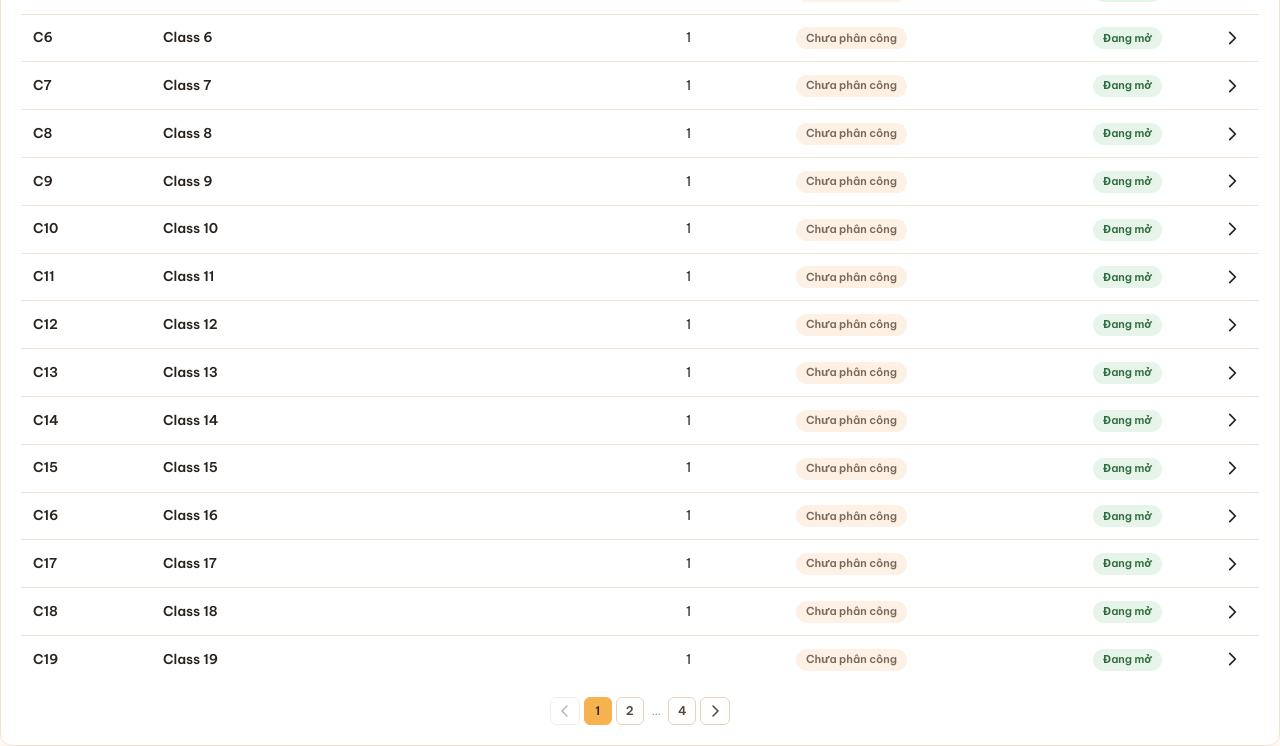
Test: classes pagination › shows five rows on the last page and returns to the first page on search
(page scrolled)
Click the button named "Trang 4" at (682, 711), box top-left (668, 697), bottom-right (696, 725)
(page scrolled)
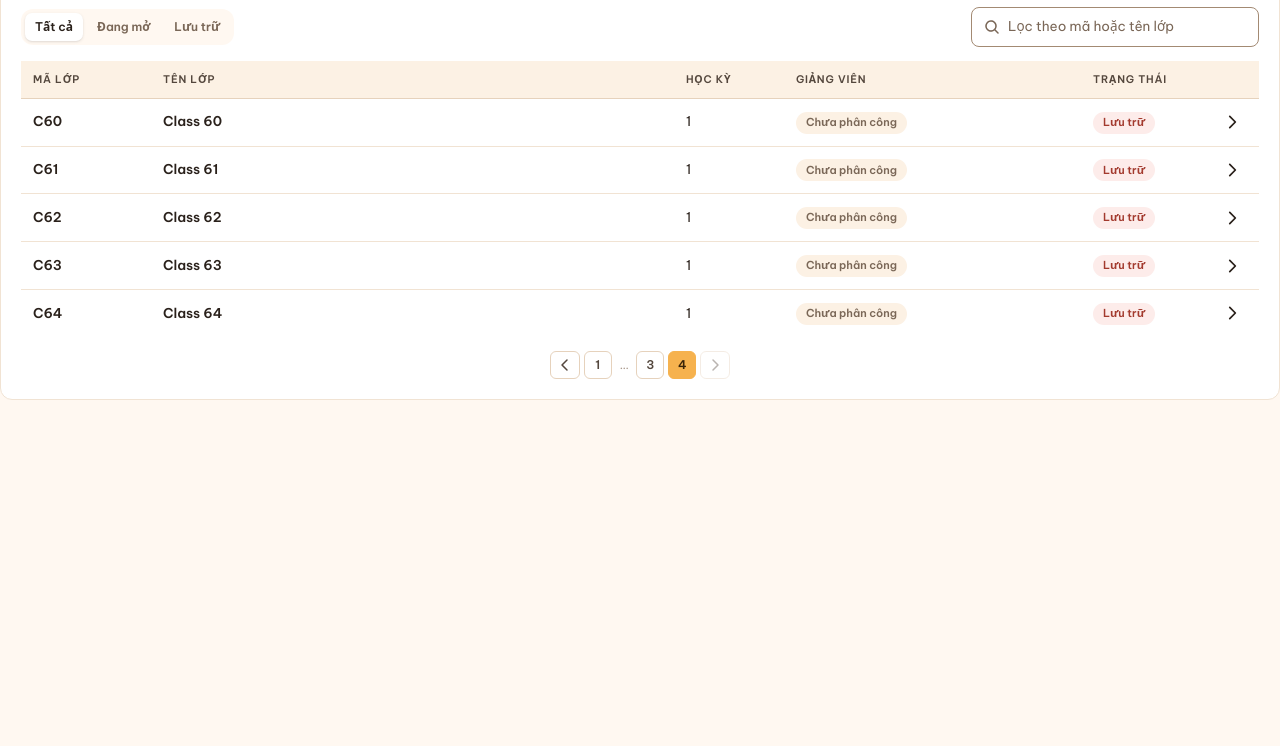
Expected: the number of rows is 6, top-left (21, 61), bottom-right (1259, 98); top-left (21, 98), bottom-right (1259, 146); top-left (21, 146), bottom-right (1259, 194); top-left (21, 194), bottom-right (1259, 242); top-left (21, 242), bottom-right (1259, 290); top-left (21, 290), bottom-right (1259, 337)
Now the button named "Trang sau" is disabled, box top-left (700, 351), bottom-right (730, 379)
Type "no-match" into the search field at (1127, 27), box top-left (1008, 16), bottom-right (1246, 38)
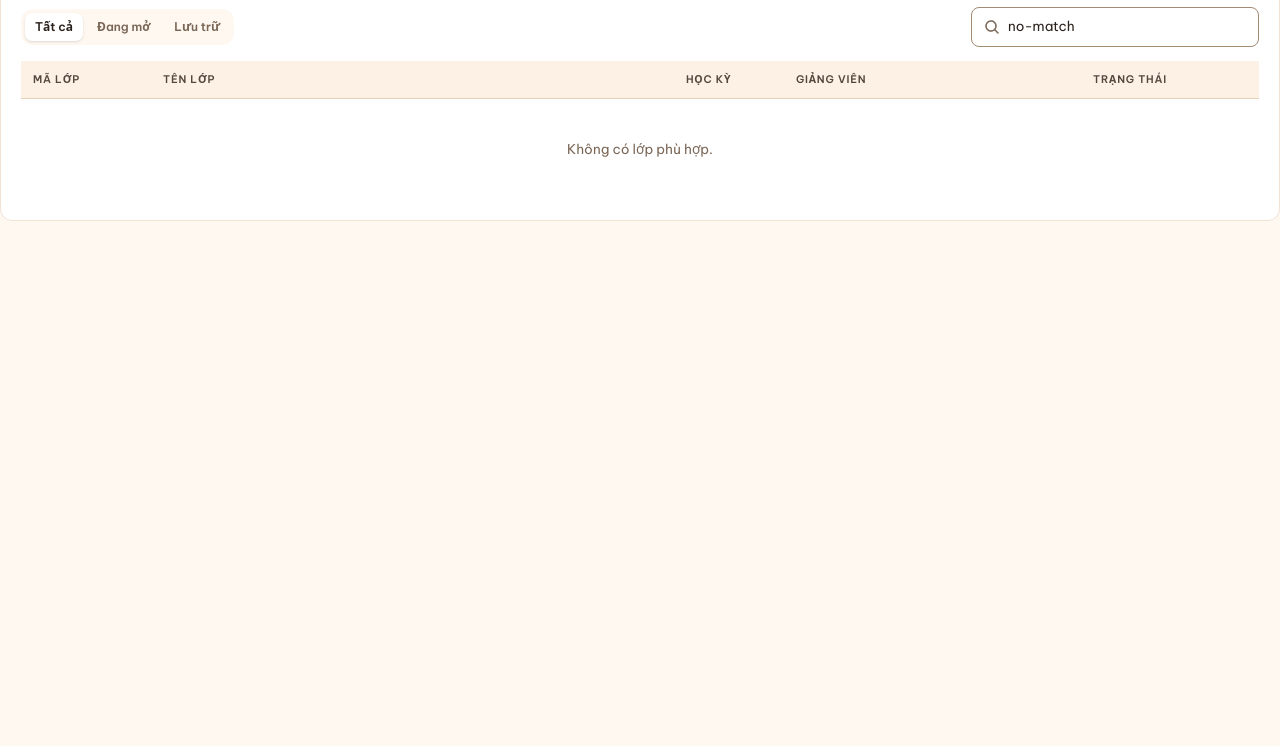
Now the text "Không có lớp phù hợp." is shown, box top-left (21, 98), bottom-right (1259, 200)
Clear the search field at (1127, 27), box top-left (1008, 16), bottom-right (1246, 38)
(page scrolled)
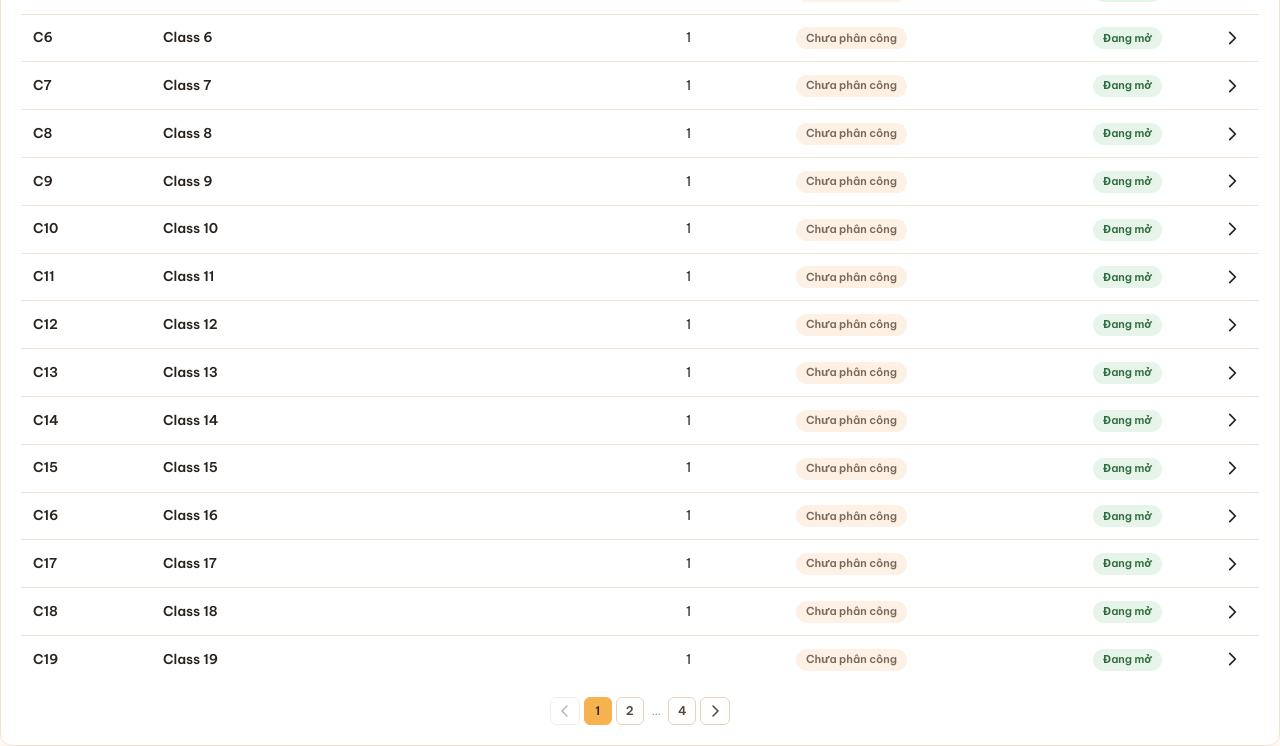
Now the button named "Trang trước" is disabled, box top-left (550, 697), bottom-right (580, 725)
